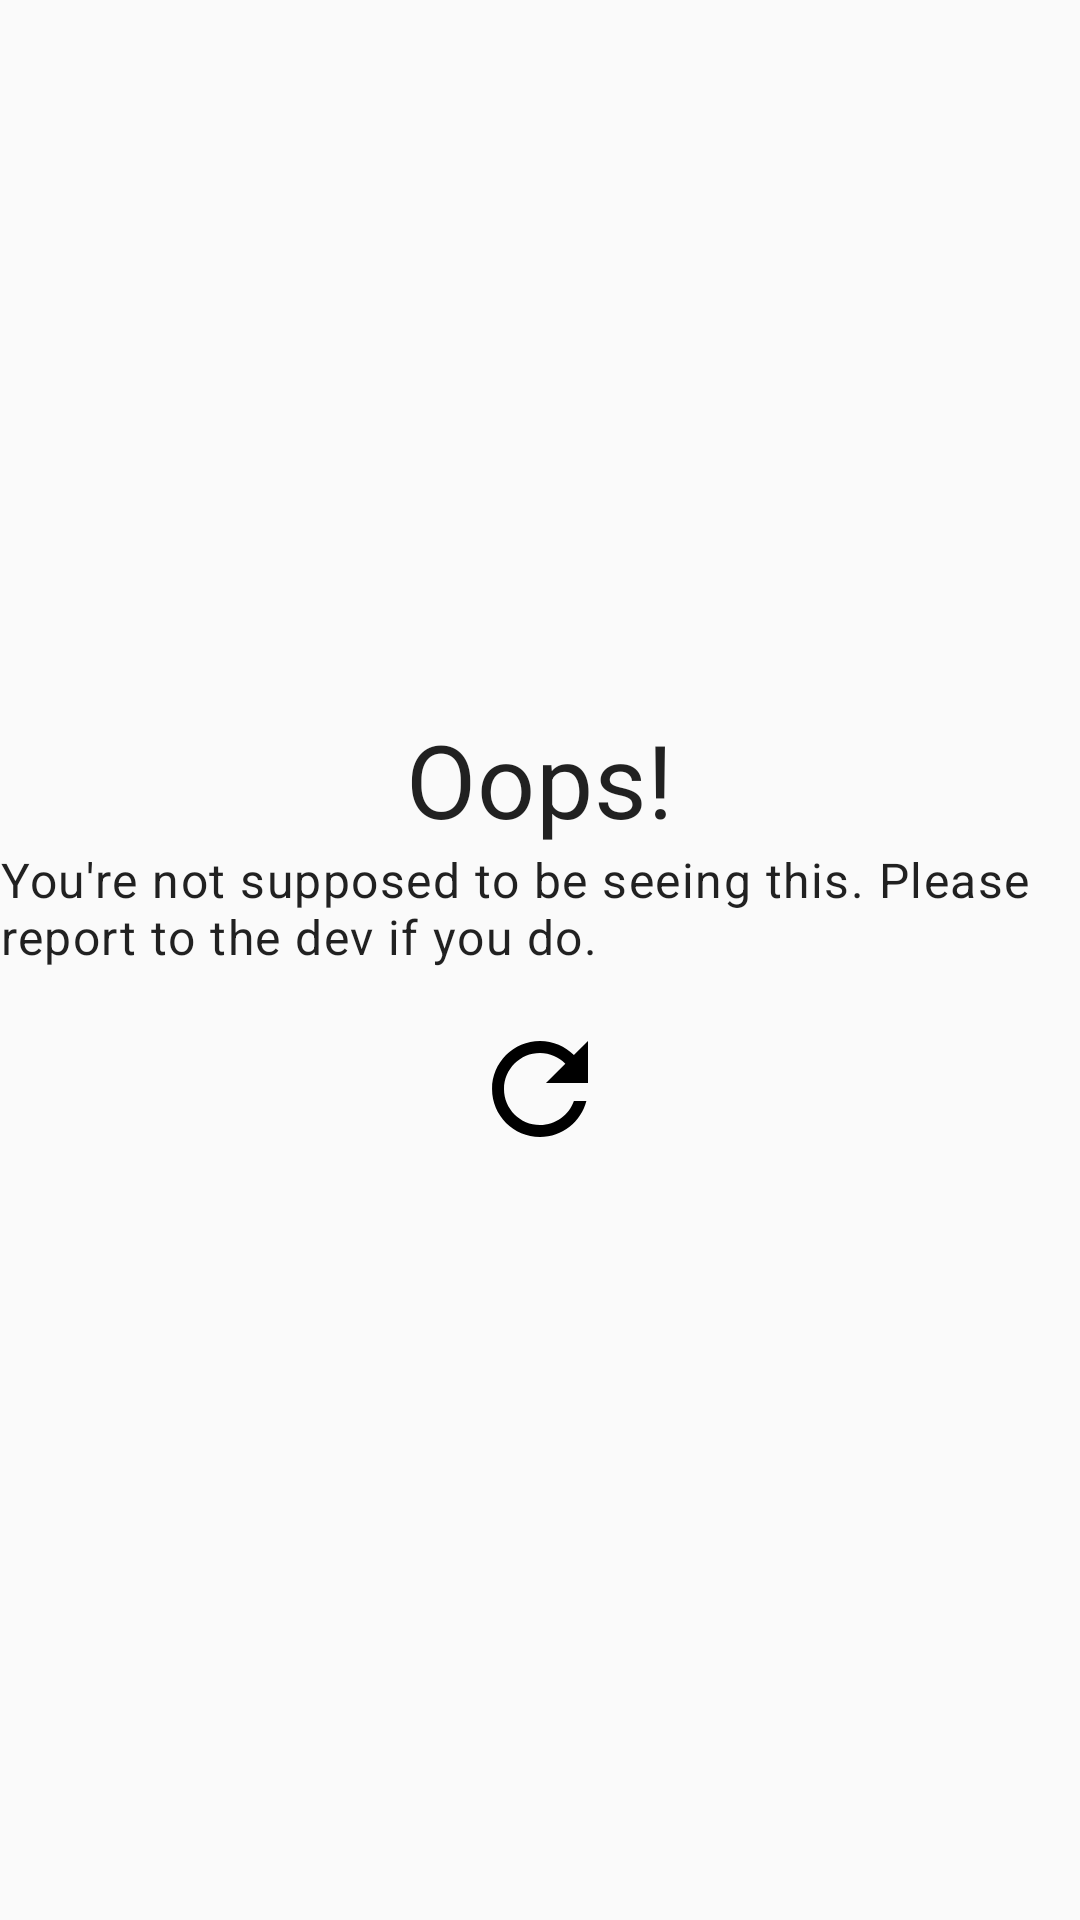

Icon bounding boxes for this 1080×1920 phone screenshot, format (x1, y1, x2, y2):
refresh: (492, 1041, 588, 1137)
